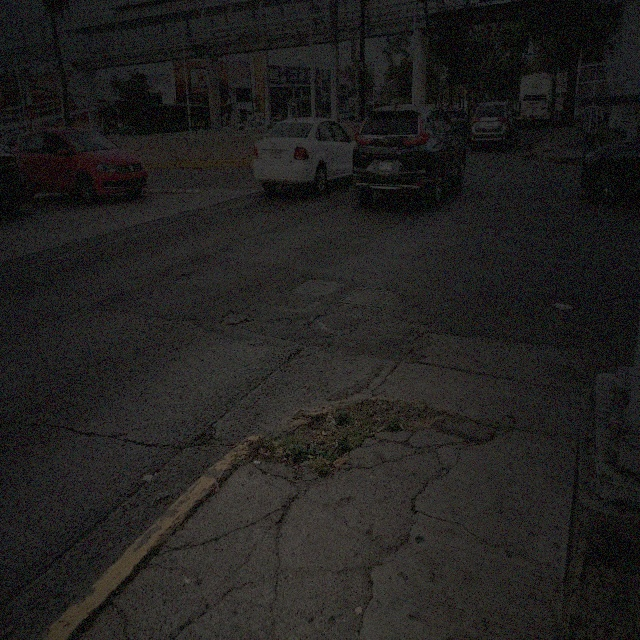pothole: (185, 416, 229, 451), (285, 349, 298, 363)
